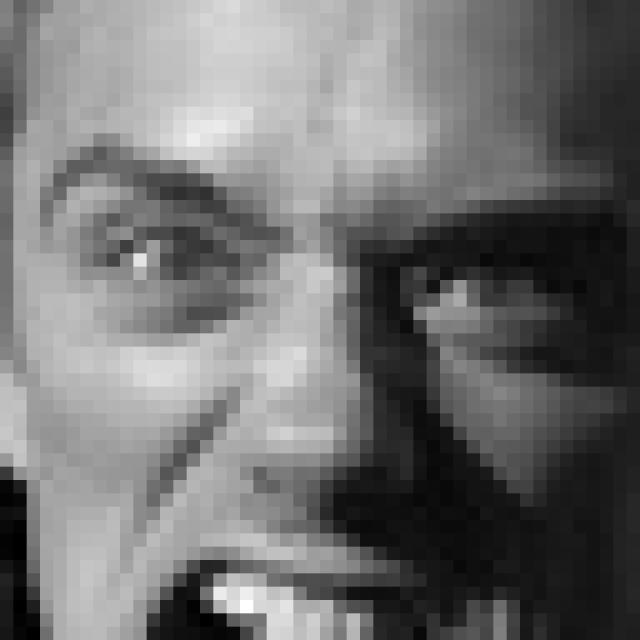angry: (48, 125, 609, 640)
